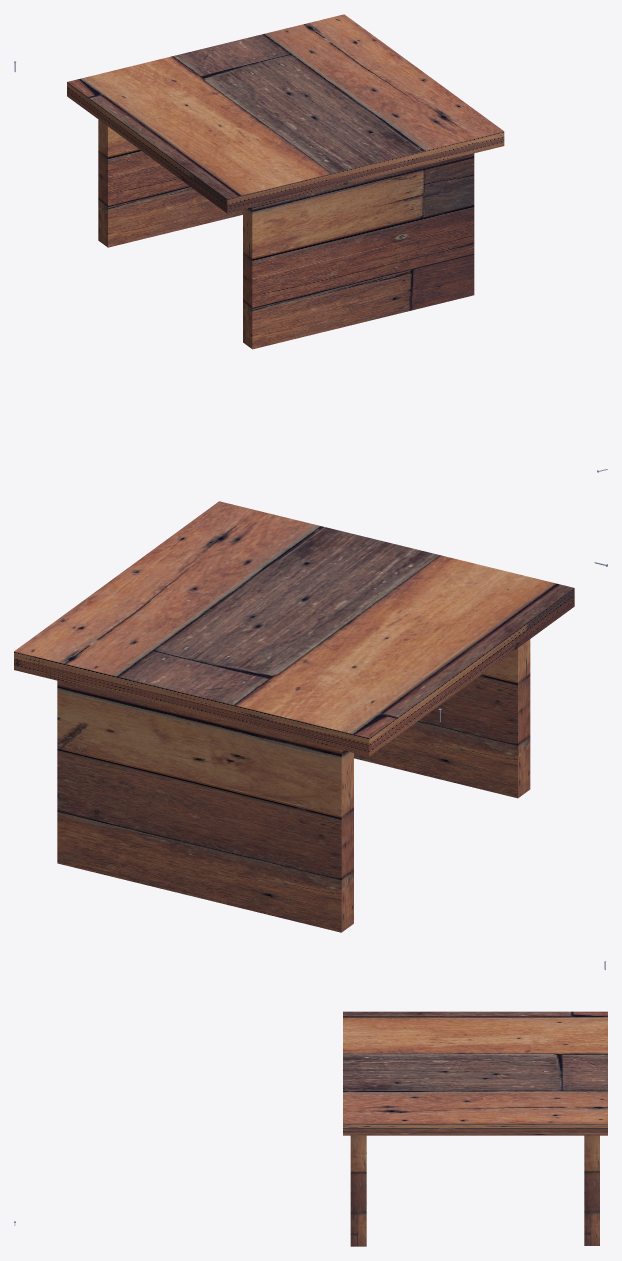
Rendered from banquito.glb.
3 views of the same model, one above another, from view 1: azimuth 30°, elevation 25°; view 2: azimuth 150°, elevation 25°; view 3: azimuth 270°, elevation 25° (orthographic). The views are drawn at different scales.
Visible parts, largest first — view 1: Cube, Cube.002, Cube.001; view 2: Cube, Cube.001, Cube.002; view 3: Cube, Cube.002, Cube.001.
Boxes of the visible parts, box(x1,y1,x2,y2) form: Cube: box(67, 14, 504, 213); Cube.002: box(243, 153, 474, 349); Cube.001: box(98, 119, 242, 247); Cube: box(14, 501, 574, 756); Cube.001: box(57, 680, 353, 932); Cube.002: box(354, 639, 530, 798); Cube: box(343, 1011, 607, 1135); Cube.002: box(350, 1135, 366, 1246); Cube.001: box(584, 1135, 599, 1245).
Bounding box in the file's own units: 2.39 × 1.41 × 4.48.
3 materials, 3 textured.
